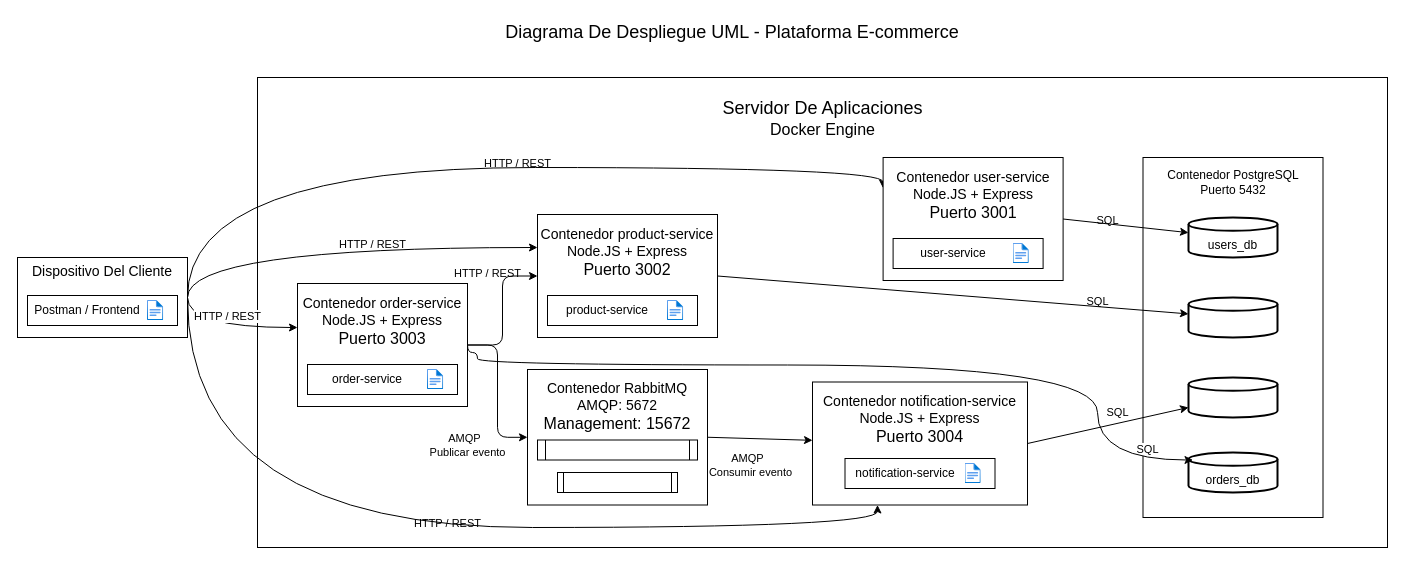
Image size: 1405x565. Some labels were removed from this diagram. The shapes that lost their labels are listed below. From the top down, each one's centre as x and y in pixels, then its label:
At [1232,317]: "products_db".
At [1232,397]: "notifications_db".
At [617,449]: "order_notifications_queue".
At [617,482]: "ecommerce_events".
